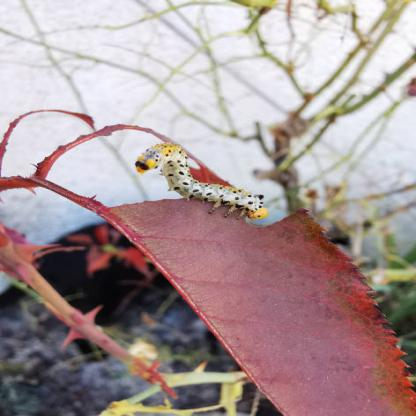sawfly: (126, 135, 275, 223)
